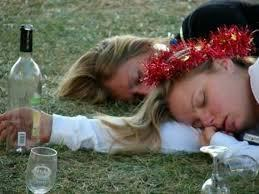Drunk: (172, 78, 254, 129)
